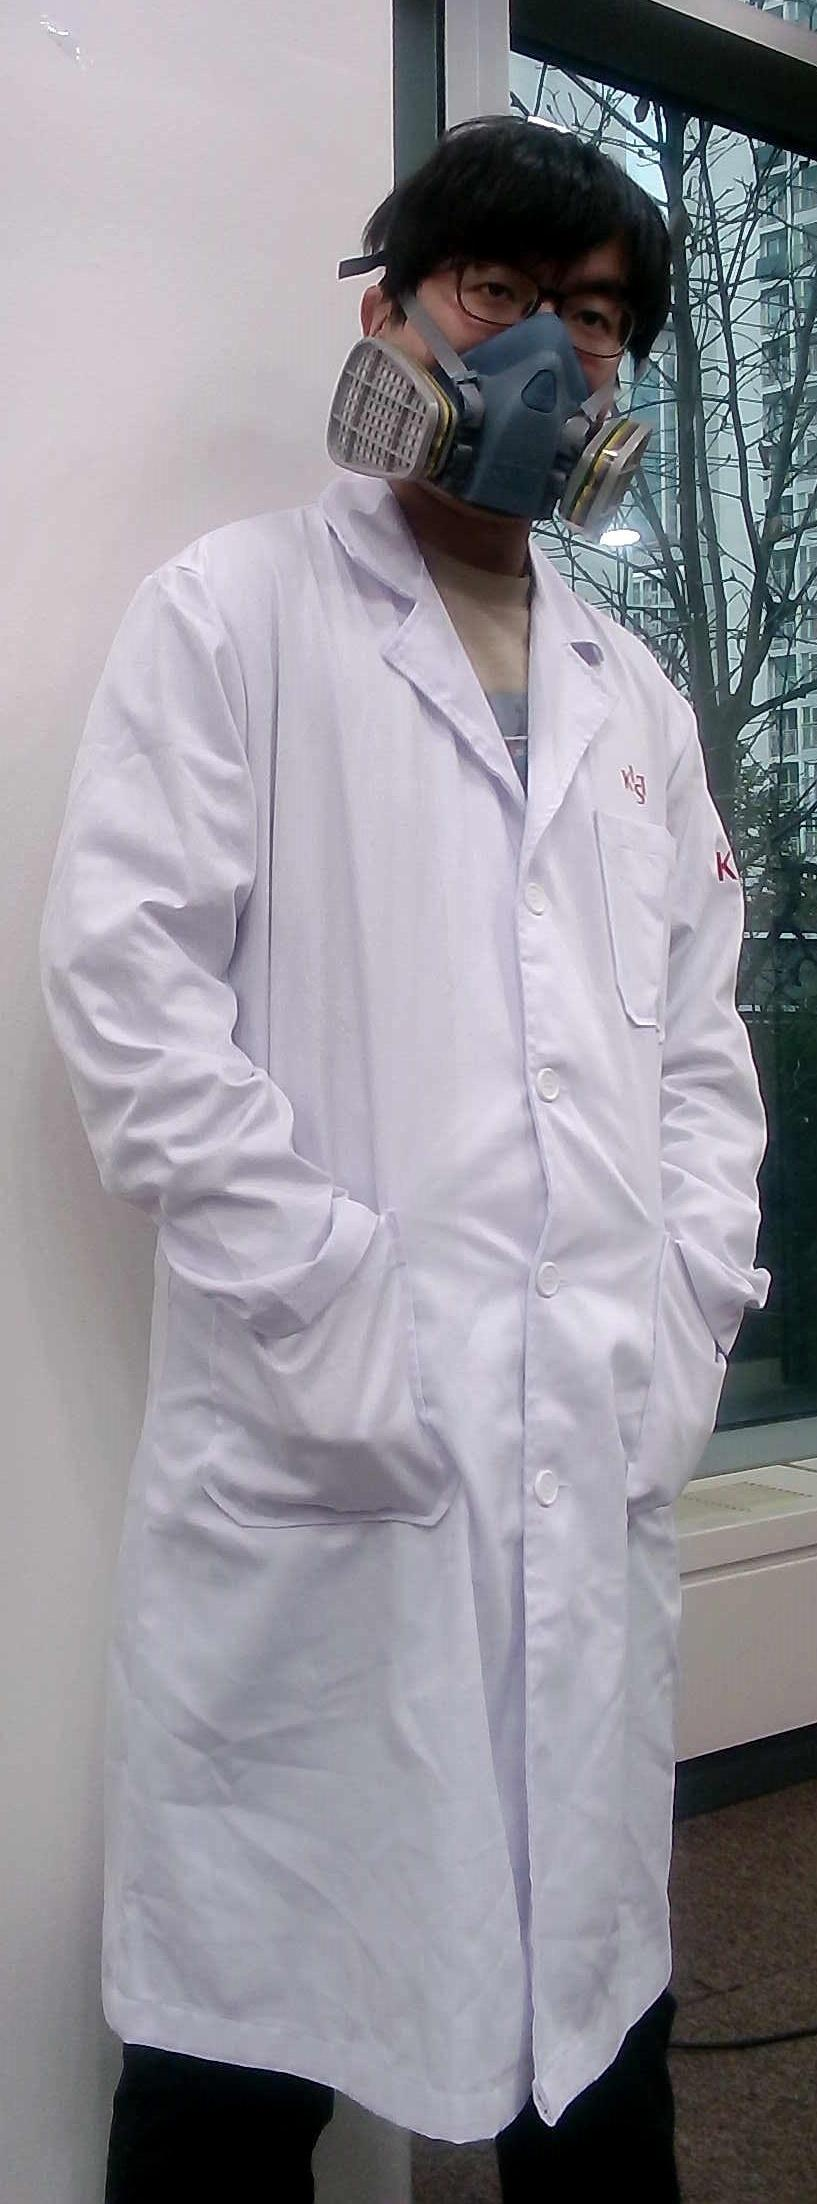lab_coat: (60, 557, 748, 2061)
